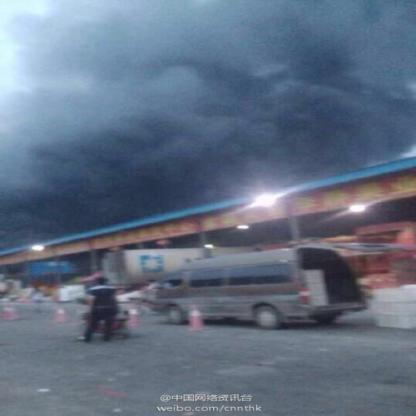smoke: (232, 0, 414, 155), (68, 0, 232, 155), (2, 87, 82, 230), (58, 150, 320, 179)
